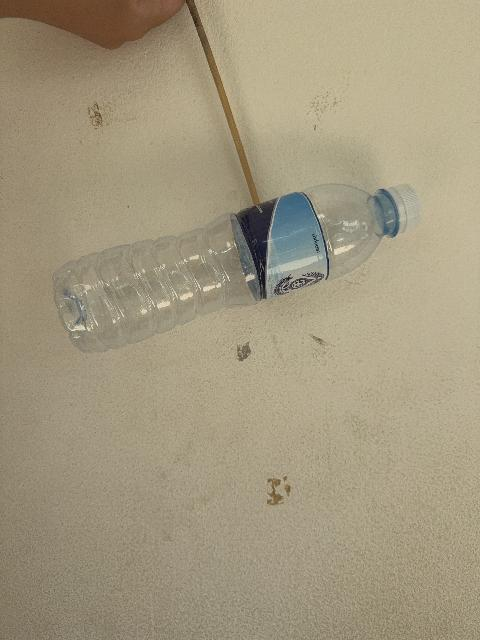bottle: (54, 185, 421, 352)
